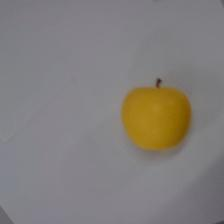yellow: (122, 80, 191, 151)
